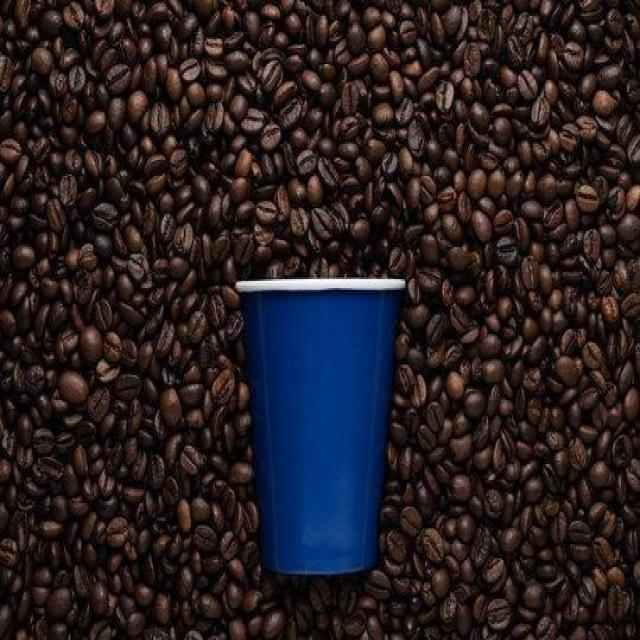cup-disposable: (240, 270, 407, 587)
